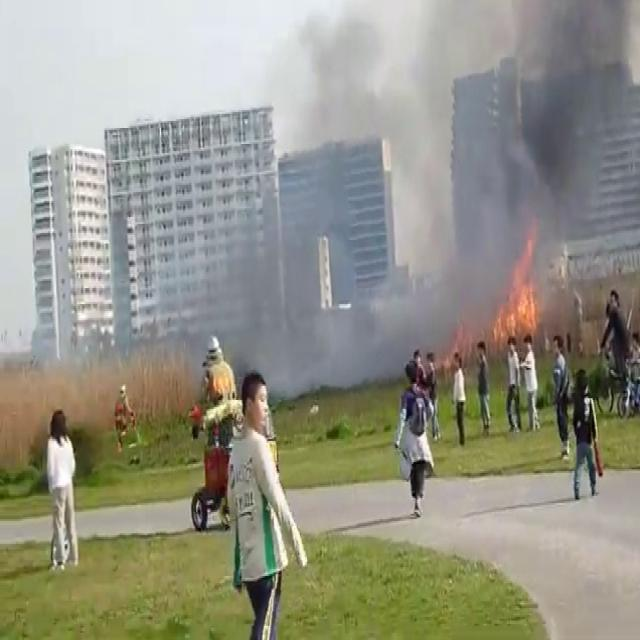Fire: (491, 257, 548, 346)
Smoke: (237, 0, 417, 407), (405, 0, 640, 309)
